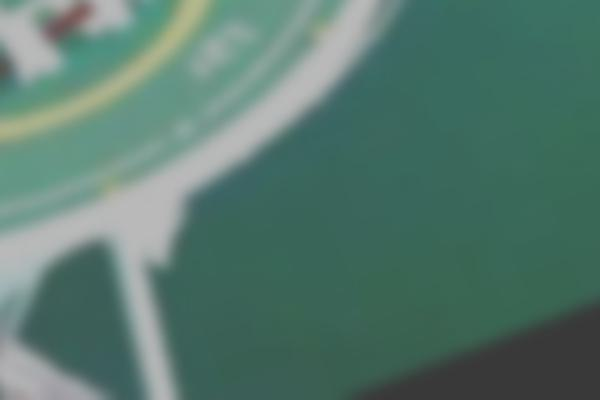Apron: (1, 1, 222, 146)
